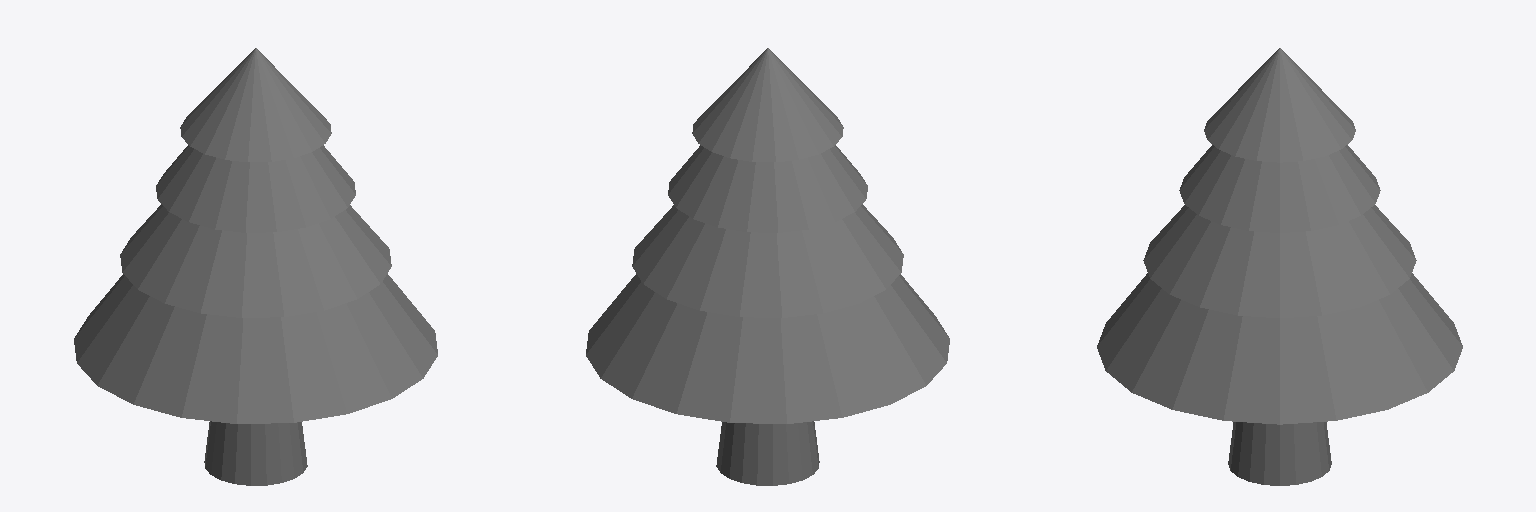
The model's file is Evergreen.obj.
3 views of the same model, side by side, from view 1: azimuth 30°, elevation 25°; view 2: azimuth 150°, elevation 25°; view 3: azimuth 270°, elevation 25° (orthographic).
Parts seen in each view (by area): view 1: pasted__pasted__pasted__group8_pasted__pasted__group4_pasted__pa; view 2: pasted__pasted__pasted__group8_pasted__pasted__group4_pasted__pa; view 3: pasted__pasted__pasted__group8_pasted__pasted__group4_pasted__pa.
Part boxes in pixels (x1,y1,x2,y2): pasted__pasted__pasted__group8_pasted__pasted__group4_pasted__pa: (74,48,437,485); pasted__pasted__pasted__group8_pasted__pasted__group4_pasted__pa: (586,48,949,485); pasted__pasted__pasted__group8_pasted__pasted__group4_pasted__pa: (1097,48,1462,485).
Bounding box in the file's own units: 7.06 × 8.84 × 7.06.